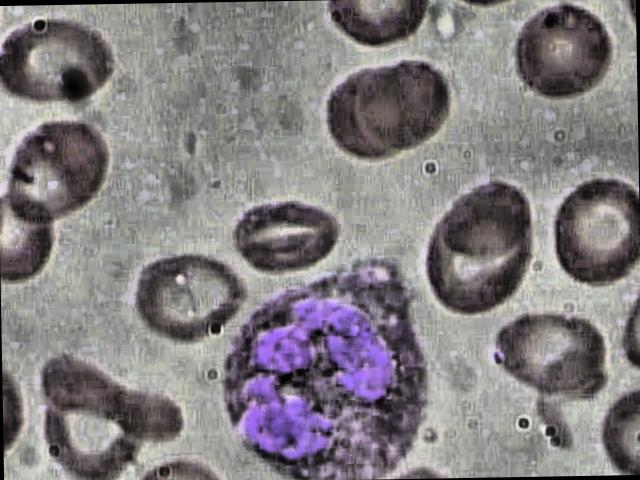RBC: (0, 110, 119, 226), (507, 0, 619, 110), (540, 170, 640, 290), (124, 250, 246, 346), (492, 300, 614, 395), (221, 182, 343, 276), (0, 12, 118, 107), (354, 54, 452, 152), (442, 168, 530, 257)
WBC: (218, 246, 433, 480)
